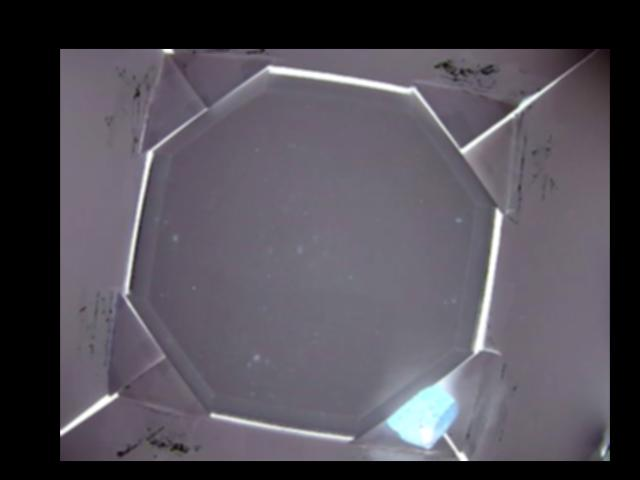Brisk: (389, 384, 456, 446)
